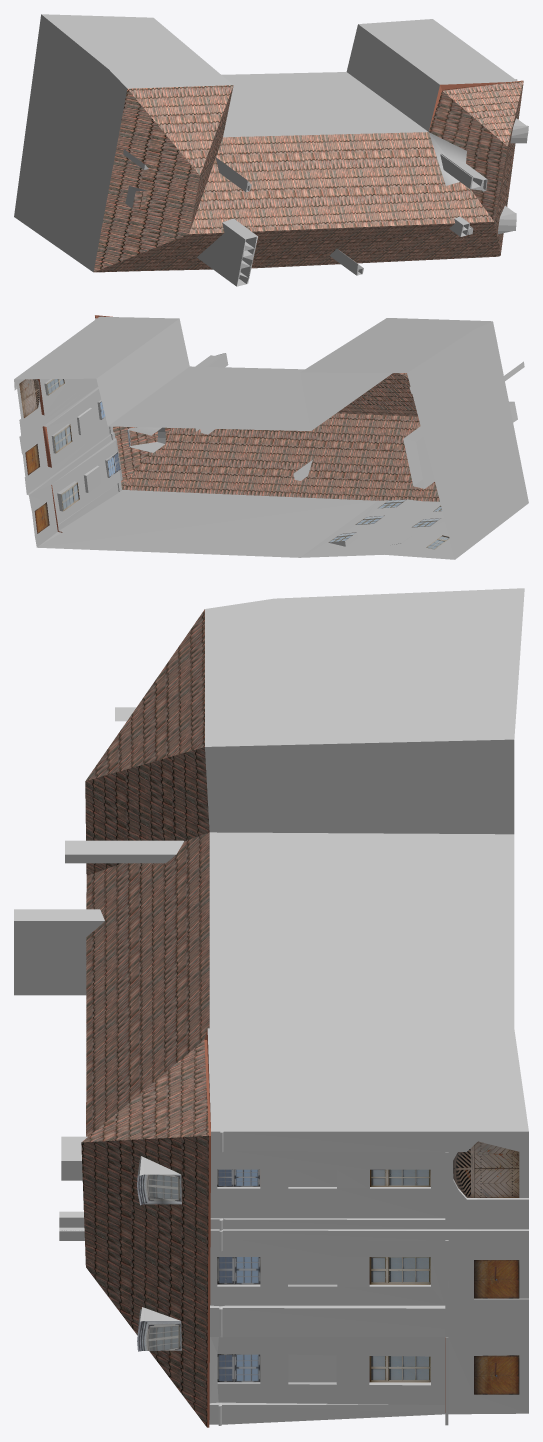
The model's file is Vene_25-origo.obj.
3 renders of one model, top to bottom at view 1: azimuth 30°, elevation 25°; view 2: azimuth 150°, elevation 25°; view 3: azimuth 270°, elevation 25°, orthographic. The views are drawn at different scales.
Visible parts, largest first — view 1: Vene_25; view 2: Vene_25; view 3: Vene_25.
Part boxes in pixels (bbox=[...]): Vene_25: bbox=[14, 14, 528, 286]; Vene_25: bbox=[14, 315, 528, 559]; Vene_25: bbox=[14, 588, 528, 1427].
Size of the model in its own units: 40.44 by 24 by 22.35.
